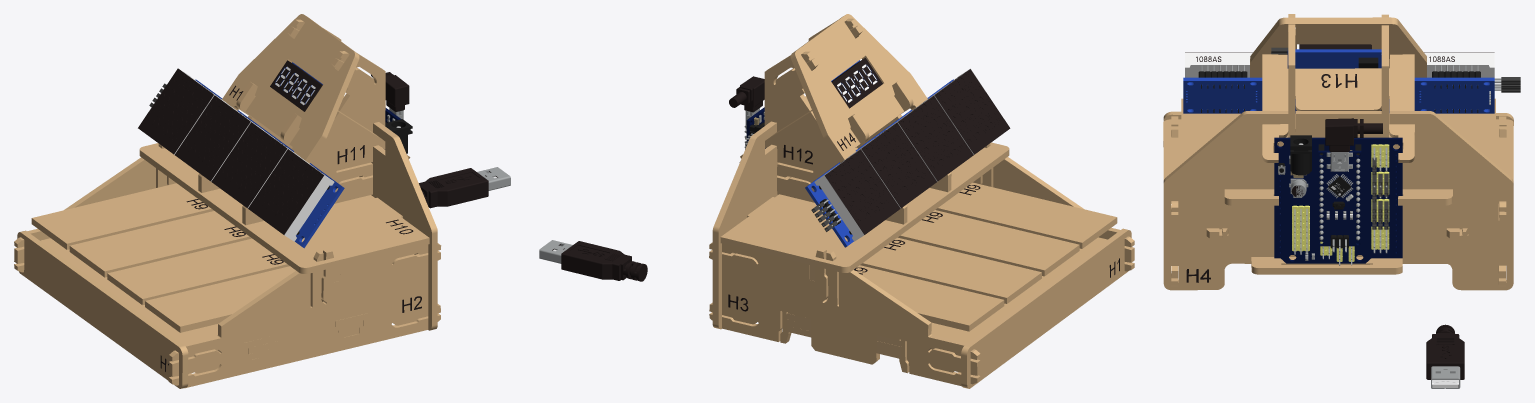
3 renders of one model, left to right at view 1: azimuth 30°, elevation 25°; view 2: azimuth 150°, elevation 25°; view 3: azimuth 270°, elevation 25°, orthographic. The views are drawn at different scales.
Visible parts, largest first — view 1: NAUO65, NAUO81, NAUO64, NAUO74, NAUO63, NAUO62, NAUO71, NAUO72, NAUO70, NAUO73, NAUO69, NAUO66 (+7 smaller); view 2: NAUO66, NAUO81, NAUO64, NAUO74, NAUO63, NAUO77, NAUO70, NAUO71, NAUO69, NAUO73, NAUO72, NAUO283 (+5 smaller); view 3: NAUO73, NAUO78, NAUO81, NAUO75, NAUO64, NAUO74, NANO, NAUO67, NAUO79, NAUO283, NAUO282, NAUO62 (+5 smaller).
Part boxes in pixels (left/top/right/bottom): NAUO65: left=168, top=243, right=441, bottom=388; NAUO81: left=138, top=68, right=344, bottom=248; NAUO64: left=139, top=143, right=429, bottom=273; NAUO74: left=222, top=14, right=359, bottom=163; NAUO63: left=17, top=230, right=188, bottom=388; NAUO62: left=242, top=51, right=385, bottom=225; NAUO71: left=69, top=211, right=251, bottom=277; NAUO72: left=31, top=183, right=214, bottom=249; NAUO70: left=107, top=238, right=289, bottom=305; NAUO73: left=343, top=96, right=437, bottom=330; NAUO69: left=145, top=266, right=295, bottom=332; NAUO66: left=14, top=144, right=176, bottom=272; NAUO66: left=709, top=242, right=980, bottom=386; NAUO81: left=805, top=69, right=1010, bottom=247; NAUO64: left=720, top=142, right=1009, bottom=272; NAUO74: left=790, top=14, right=927, bottom=162; NAUO63: left=961, top=228, right=1131, bottom=388; NAUO77: left=764, top=51, right=907, bottom=224; NAUO70: left=898, top=210, right=1079, bottom=276; NAUO71: left=860, top=237, right=1041, bottom=303; NAUO69: left=935, top=182, right=1117, bottom=248; NAUO73: left=712, top=96, right=807, bottom=329; NAUO72: left=854, top=265, right=1004, bottom=331; NAUO283: left=539, top=240, right=647, bottom=281; NAUO73: left=1163, top=111, right=1513, bottom=290; NAUO78: left=1274, top=135, right=1402, bottom=265; NAUO81: left=1183, top=52, right=1501, bottom=113; NAUO75: left=1262, top=54, right=1414, bottom=162; NAUO64: left=1163, top=119, right=1513, bottom=205; NAUO74: left=1250, top=17, right=1426, bottom=77; NANO: left=1318, top=150, right=1361, bottom=252; NAUO67: left=1171, top=204, right=1498, bottom=274; NAUO79: left=1287, top=44, right=1381, bottom=68; NAUO283: left=1426, top=324, right=1464, bottom=388; NAUO282: left=1325, top=118, right=1382, bottom=163; NAUO62: left=1288, top=14, right=1295, bottom=137.
Size of the model in its own units: 235 by 119 by 149.
